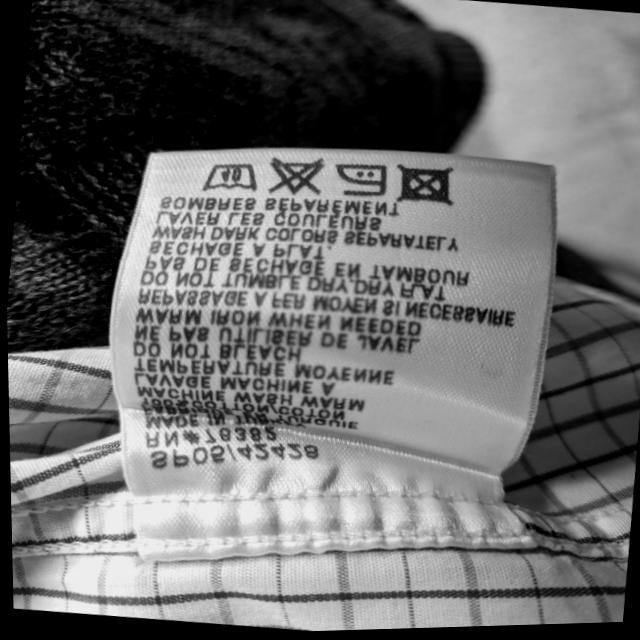40C: (202, 156, 260, 192)
DN_bleach: (265, 155, 332, 198)
DN_tumble_dry: (394, 162, 459, 204)
iron_medium: (334, 161, 394, 199)
